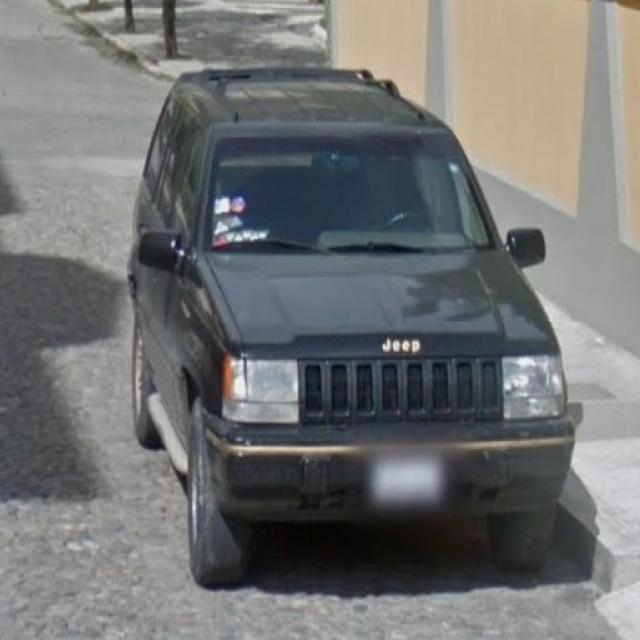car: (132, 60, 584, 605)
